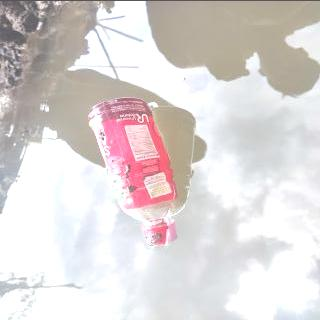bottle: (85, 94, 180, 246)
